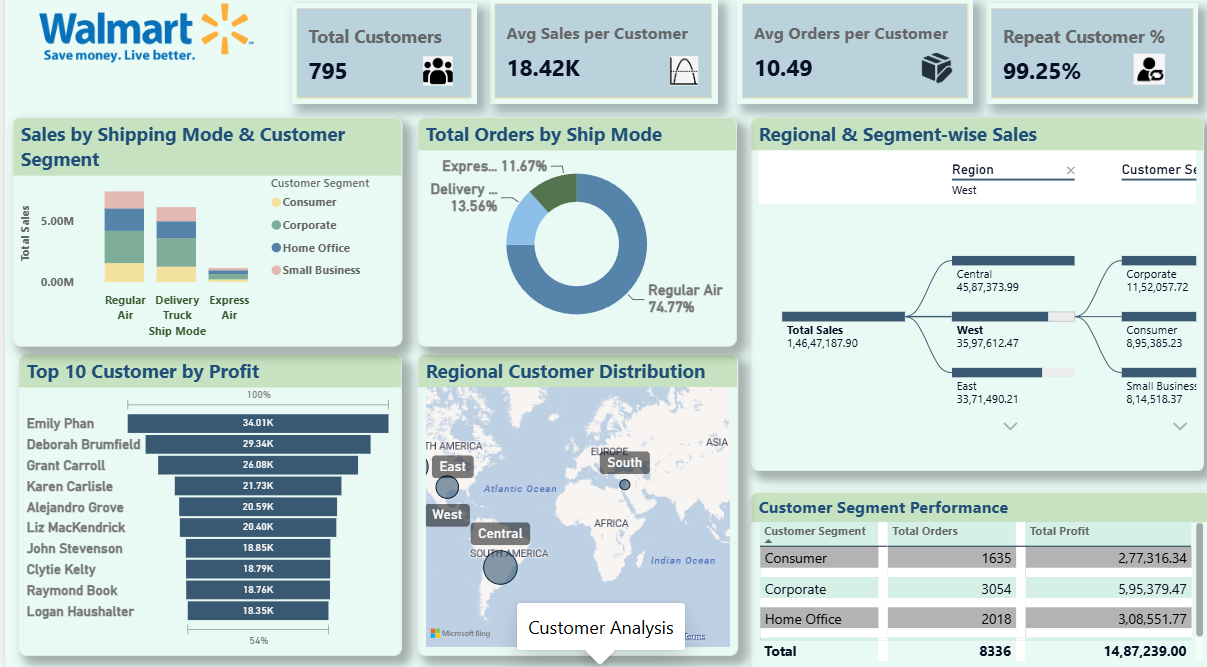

This screenshot's page, from the dashboard's own definition file:
{"tool":"powerbi","page":{"name":"Customer Analysis","canvas":[1280,720],"ordinal":3},"visuals":[{"type":"image","box":[14.2,8.1,271.4,72.9],"z":0},{"type":"cardVisual","fields":{"Data":["Measures for visuals.Total Customers"]},"box":[303.2,12.7,196.7,106.7],"z":1000},{"type":"cardVisual","fields":{"Data":["Measures for visuals.Avg Sales per Customer"]},"box":[513.2,7.7,241.7,111.7],"z":2000},{"type":"cardVisual","fields":{"Data":["Measures for visuals.Avg Orders per Customer"]},"box":[776.3,7.7,250,111.7],"z":3000},{"type":"cardVisual","fields":{"Data":["Measures for visuals.Repeat Customer %"]},"box":[1039.6,12.7,225,106.7],"z":4000},{"type":"funnel","title":"Top 10 Customer by Profit","fields":{"Y":["Measures for visuals.Total Profit"],"Category":["walmart Retail Data.Customer Name"]},"box":[15,385,406.7,320],"z":5000},{"type":"decompositionTreeVisual","title":"Regional & Segment-wise Sales","fields":{"Analyze":["Measures for visuals.Total Sales"],"ExplainBy":["walmart Retail Data.Region","walmart Retail Data.Customer Segment"]},"box":[790,133.3,481.7,375],"z":6000},{"type":"tableEx","title":"Customer Segment Performance","fields":{"Values":["walmart Retail Data.Customer Segment","Measures for visuals.Total Orders","Measures for visuals.Total Profit"]},"box":[790,531.7,490,188.3],"z":7000},{"type":"map","title":"Regional Customer Distribution","fields":{"Size":["Measures for visuals.Total Customers"],"Category":["walmart Retail Data.Region"]},"box":[436.7,385,340,320],"z":8000},{"type":"columnChart","title":"Sales by Shipping Mode & Customer Segment","fields":{"Category":["walmart Retail Data.Ship Mode"],"Y":["Measures for visuals.Total Sales"],"Series":["walmart Retail Data.Customer Segment"]},"box":[8.3,133.3,413.3,243.3],"z":9000},{"type":"donutChart","fields":{"Category":["walmart Retail Data.Ship Mode"],"Y":["Measures for visuals.Total Orders"]},"box":[436.7,133.3,338.3,243.3],"z":10000},{"type":"image","box":[436.7,63.3,43.3,41.7],"z":11000},{"type":"image","box":[963.3,55,46.7,50],"z":12000},{"type":"image","box":[683.3,63.3,71.7,41.7],"z":13000},{"type":"image","box":[1191.7,60,43.3,45],"z":14000}]}

Visuals, with their boxes in screenshot pixels (x1, y1, x2, y2), scaled from the page's 1280x720 canvas onto the 1207x667 screenshot:
image: crop(13, 8, 269, 75)
cardVisual - Measures for visuals.Total Customers: crop(286, 12, 471, 111)
cardVisual - Measures for visuals.Avg Sales per Customer: crop(484, 7, 712, 111)
cardVisual - Measures for visuals.Avg Orders per Customer: crop(732, 7, 968, 111)
cardVisual - Measures for visuals.Repeat Customer %: crop(980, 12, 1192, 111)
"Top 10 Customer by Profit" funnel: crop(14, 357, 398, 653)
"Regional & Segment-wise Sales" decompositionTreeVisual: crop(745, 123, 1199, 471)
"Customer Segment Performance" tableEx: crop(745, 493, 1206, 666)
"Regional Customer Distribution" map: crop(412, 357, 732, 653)
"Sales by Shipping Mode & Customer Segment" columnChart: crop(8, 123, 398, 349)
donutChart - walmart Retail Data.Ship Mode x Measures for visuals.Total Orders: crop(412, 123, 731, 349)
image: crop(412, 59, 453, 97)
image: crop(908, 51, 952, 97)
image: crop(644, 59, 712, 97)
image: crop(1124, 56, 1165, 97)
